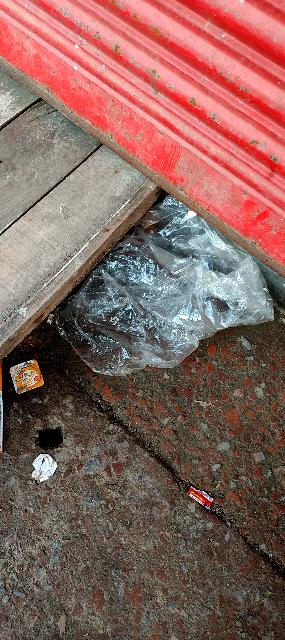polythene: (37, 189, 266, 416)
